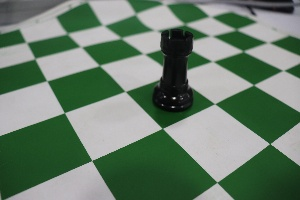black_rook: (149, 21, 198, 117)
